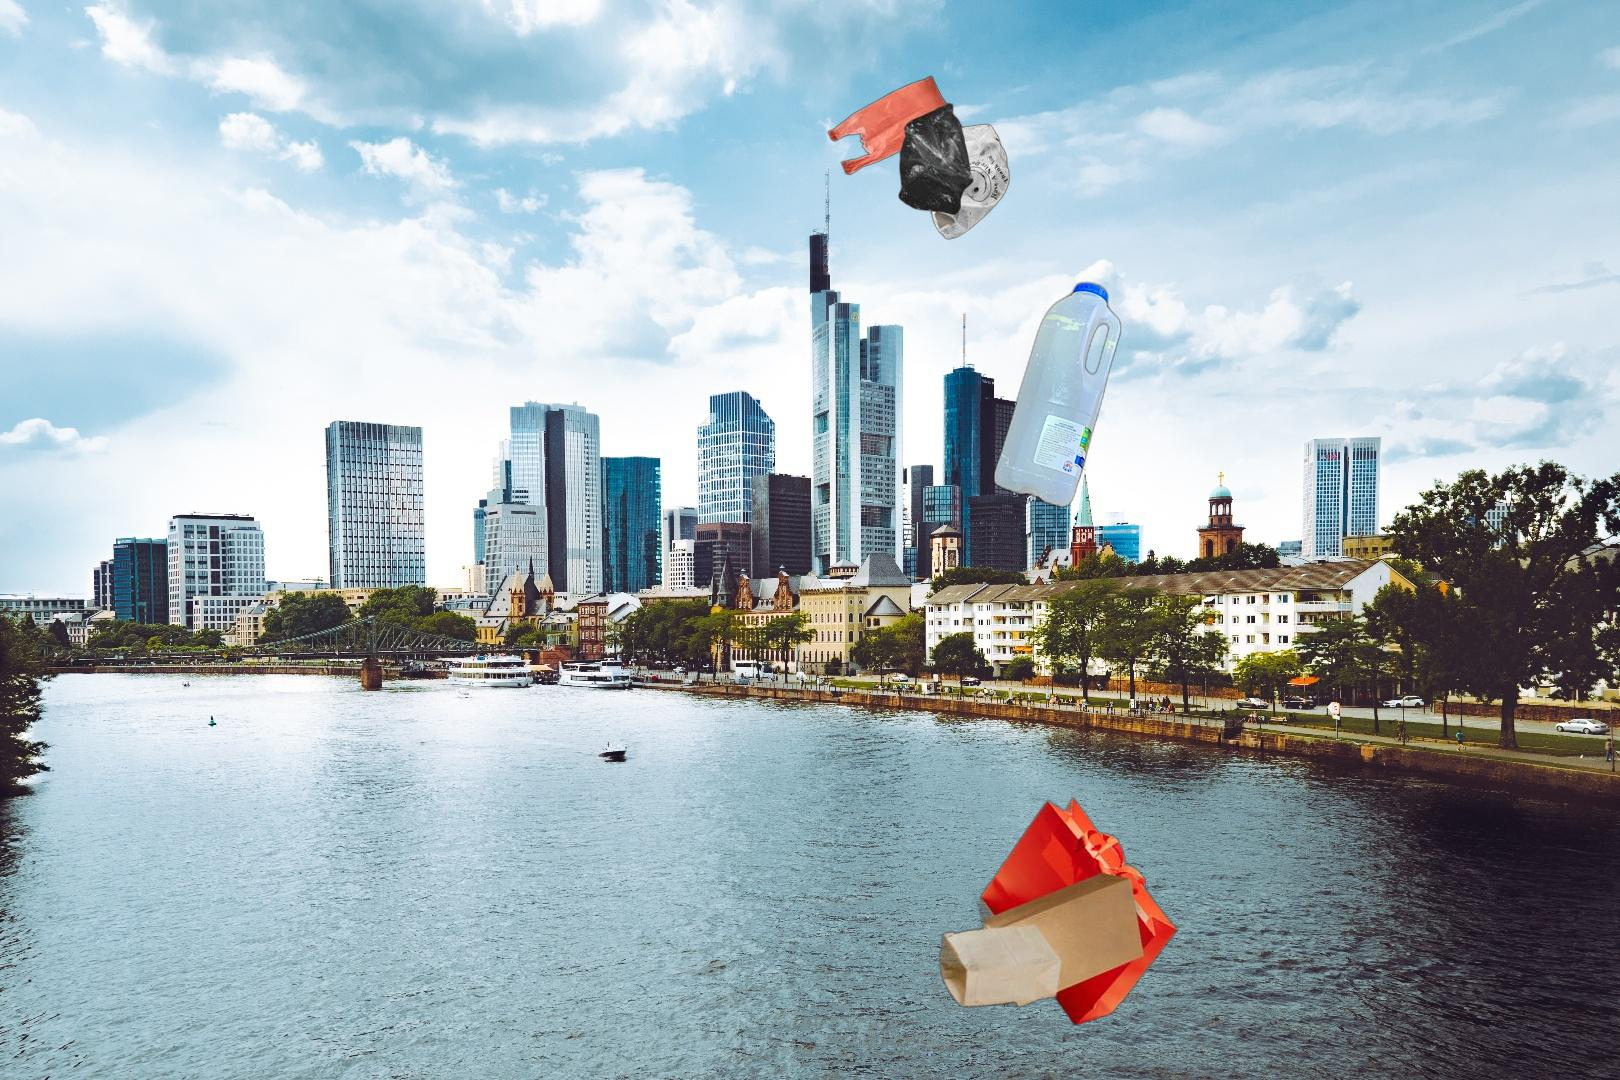paper-bag: (928, 794, 1179, 1041)
plastic-bag: (824, 74, 1012, 242)
plastic-bottles: (990, 276, 1126, 513)
